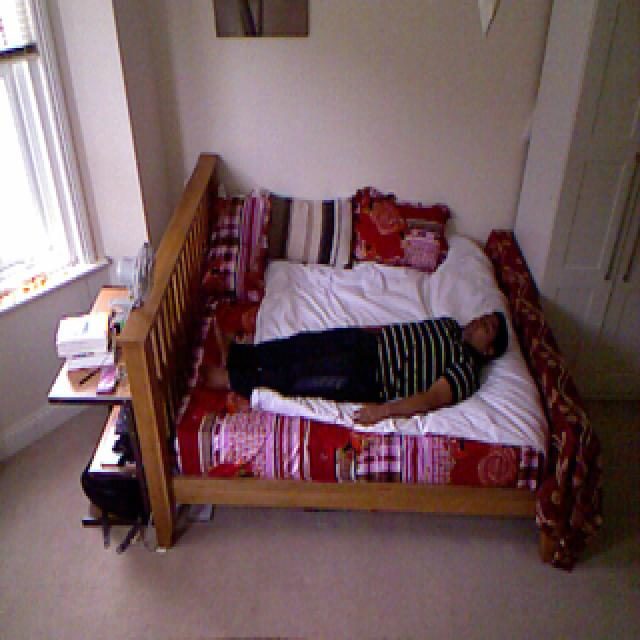lying: (200, 309, 516, 429)
